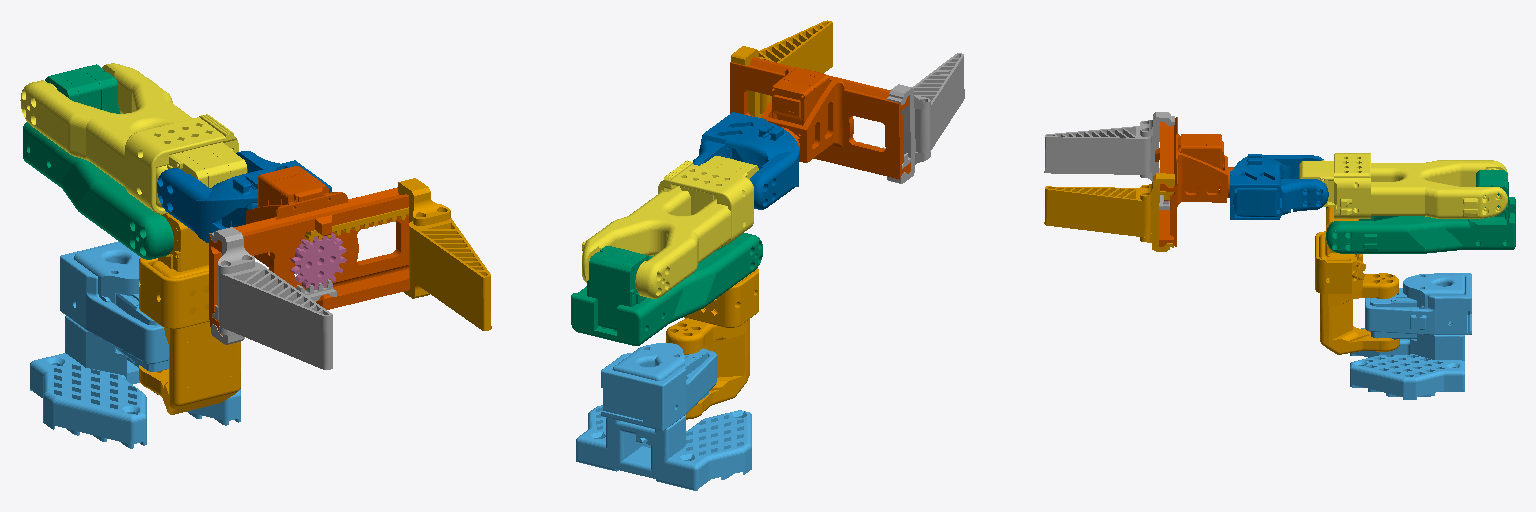
The robot description file, URDF, robot "SO-ARM101-OMNI-KIN":
<?xml version='1.0' encoding='utf-8'?>
<robot name="SO-ARM101-OMNI-KIN">
    <link name="shoulder">
        <inertial>
            <origin xyz="0.0004770891851071943 0.02669894317680722 0.02547189840090753" rpy="0.0 -0.0 -2.710505431213761e-20" />
            <mass value="0.11252428756598662" />
            <inertia ixx="0.0001038617717766518" iyy="9.279450395593099e-05" izz="3.537771817465525e-05" ixy="-1.7611894107316886e-07" iyz="-1.129544297013594e-05" ixz="-1.104499025295056e-06" />
        </inertial>
        <visual name="shoulder_visual">
            <origin xyz="4.32028549060548e-09 -3.505804035963678e-10 0.004699996355373175" rpy="1.5707963267948966 3.4088523324894087e-16 0.7853981633974478" />
            <geometry>
                <mesh filename="meshes/shoulder.stl" scale="0.001 0.001 0.001" />
            </geometry>
        </visual>
        <collision name="shoulder_collision">
            <origin xyz="4.32028549060548e-09 -3.505804035963678e-10 0.004699996355373175" rpy="1.5707963267948966 3.4088523324894087e-16 0.7853981633974478" />
            <geometry>
                <mesh filename="meshes/shoulder.stl" scale="0.001 0.001 0.001" />
            </geometry>
        </collision>
    </link>
    <link name="base">
        <inertial>
            <origin xyz="7.029578591352484e-05 0.01636738101500659 0.03471315624812317" rpy="0.0 0.0 0.0" />
            <mass value="0.14019734434910766" />
            <inertia ixx="0.00012301921987943775" iyy="0.00011340492540218861" izz="0.0001195394785059863" ixy="4.924724497830147e-07" iyz="-1.6171555219050685e-06" ixz="-1.4121587122389685e-07" />
        </inertial>
        <visual name="base_visual">
            <origin xyz="0.0 0.0 0.0" rpy="0.0 0.0 0.0" />
            <geometry>
                <mesh filename="meshes/base.stl" scale="0.001 0.001 0.001" />
            </geometry>
        </visual>
        <collision name="base_collision">
            <origin xyz="0.0 0.0 0.0" rpy="0.0 0.0 0.0" />
            <geometry>
                <mesh filename="meshes/base.stl" scale="0.001 0.001 0.001" />
            </geometry>
        </collision>
    </link>
    <link name="upper_arm">
        <inertial>
            <origin xyz="-0.0033060986470495202 -0.07760698945278842 0.012859956260585576" rpy="-1.734723475976807e-18 5.551115123125783e-17 0.0" />
            <mass value="0.11765330060336393" />
            <inertia ixx="0.00025566943669058504" iyy="4.416618555679611e-05" izz="0.0002519379499457072" ixy="5.358807226672595e-06" iyz="3.217516194400764e-05" ixz="4.1579767479330715e-06" />
        </inertial>
        <visual name="upper_arm_visual">
            <origin xyz="-0.0876344904439459 0.05903462491087984 -0.0680831327509761" rpy="-0.8051416659403453 -0.7853006921569171 3.1415926535897927" />
            <geometry>
                <mesh filename="meshes/upper_arm.stl" scale="0.001 0.001 0.001" />
            </geometry>
        </visual>
        <collision name="upper_arm_collision">
            <origin xyz="-0.0876344904439459 0.05903462491087984 -0.0680831327509761" rpy="-0.8051416659403453 -0.7853006921569171 3.1415926535897927" />
            <geometry>
                <mesh filename="meshes/upper_arm.stl" scale="0.001 0.001 0.001" />
            </geometry>
        </collision>
    </link>
    <link name="lower_arm">
        <inertial>
            <origin xyz="0.0027481190902925337 -0.0846321631821059 -0.011360163349067517" rpy="1.3696423384195834e-77 -0.0 0.0" />
            <mass value="0.12021157770337373" />
            <inertia ixx="0.00029045994554260886" iyy="3.3363740831845074e-05" izz="0.00027279419874800767" ixy="1.1556359884385421e-05" iyz="-2.2156005773684915e-05" ixz="6.968018665230375e-07" />
        </inertial>
        <visual name="lower_arm_visual">
            <origin xyz="-0.03889082325011607 0.038890926950001986 0.004700000365587216" rpy="-0.7853968025527264 1.5707963267948915 0" />
            <geometry>
                <mesh filename="meshes/lower_arm.stl" scale="0.001 0.001 0.001" />
            </geometry>
        </visual>
        <collision name="lower_arm_collision">
            <origin xyz="-0.03889082325011607 0.038890926950001986 0.004700000365587216" rpy="-0.7853968025527264 1.5707963267948915 0" />
            <geometry>
                <mesh filename="meshes/lower_arm.stl" scale="0.001 0.001 0.001" />
            </geometry>
        </collision>
    </link>
    <link name="wrist">
        <inertial>
            <origin xyz="-7.537262702586035e-05 -0.03205081928588715 -0.018830063867144923" rpy="0.0 -0.0 0.0" />
            <mass value="0.0936865599796325" />
            <inertia ixx="6.468147889091079e-05" iyy="3.4923854412750434e-05" izz="4.0181215539223256e-05" ixy="-1.2407449180291718e-07" iyz="-1.6892866857366e-05" ixz="-1.363279388738175e-07" />
        </inertial>
        <visual name="wrist_visual">
            <origin xyz="-0.15596126667785115 -0.11007333393503224 -0.04778230093915429" rpy="-0.7853968025527258 1.570796326794893 0" />
            <geometry>
                <mesh filename="meshes/wrist.stl" scale="0.001 0.001 0.001" />
            </geometry>
        </visual>
        <collision name="wrist_collision">
            <origin xyz="-0.15596126667785115 -0.11007333393503224 -0.04778230093915429" rpy="-0.7853968025527258 1.570796326794893 0" />
            <geometry>
                <mesh filename="meshes/wrist.stl" scale="0.001 0.001 0.001" />
            </geometry>
        </collision>
    </link>
    <link name="gripper_base">
        <inertial>
            <origin xyz="-0.00010779946928470257 0.026141651583498737 0.015566120970506102" rpy="0.0 -0.0 0.0" />
            <mass value="0.10461304973920418" />
            <inertia ixx="5.103843317822831e-05" iyy="6.339652596591504e-05" izz="6.215519220101131e-05" ixy="2.4257928822083845e-08" iyz="-2.2265973022453454e-06" ixz="-5.006132009341495e-08" />
        </inertial>
        <visual name="gripper_base_visual">
            <origin xyz="-3.655863098361856e-10 0.08817609256408947 0.08817633442142203" rpy="2.3561931293476226 -3.132732986072603e-15 3.141592653589792" />
            <geometry>
                <mesh filename="meshes/gripper_base.stl" scale="0.001 0.001 0.001" />
            </geometry>
        </visual>
        <collision name="gripper_base_collision">
            <origin xyz="-3.655863098361856e-10 0.08817609256408947 0.08817633442142203" rpy="2.3561931293476226 -3.132732986072603e-15 3.141592653589792" />
            <geometry>
                <mesh filename="meshes/gripper_base.stl" scale="0.001 0.001 0.001" />
            </geometry>
        </collision>
    </link>
    <link name="gripper_gear">
        <inertial>
            <origin xyz="-1.3084360728221611e-09 9.683989379993817e-07 -0.00403993804917409" rpy="-1.7347234759768067e-18 -1.2212097517038875e-18 0.0" />
            <mass value="0.01774724630550029" />
            <inertia ixx="5.590295712411363e-07" iyy="5.5902736607935e-07" izz="8.856230081697127e-07" ixy="-1.3679504698222932e-12" iyz="1.0890768944271274e-10" ixz="-4.90659953436463e-12" />
        </inertial>
        <visual name="gripper_gear_visual">
            <origin xyz="-0.04096474937172569 -0.008207649873400662 0.17375672286132207" rpy="1.5707970156192252 2.4234187544558596e-15 3.1415926475787423" />
            <geometry>
                <mesh filename="meshes/gripper_gear.stl" scale="0.001 0.001 0.001" />
            </geometry>
        </visual>
        <collision name="gripper_gear_collision">
            <origin xyz="-0.04096474937172569 -0.008207649873400662 0.17375672286132207" rpy="1.5707970156192252 2.4234187544558596e-15 3.1415926475787423" />
            <geometry>
                <mesh filename="meshes/gripper_gear.stl" scale="0.001 0.001 0.001" />
            </geometry>
        </collision>
    </link>
    <link name="arm_l">
        <inertial>
            <origin xyz="-0.03226585265930524 0.021722011682497263 0.009138394119721553" rpy="2.1895288505075267e-47 -0.0 0.0" />
            <mass value="0.026667752801736215" />
            <inertia ixx="7.595891355746684e-06" iyy="2.0166298631833295e-05" izz="2.0667734039717285e-05" ixy="1.6221364208728269e-06" iyz="1.0678873844993456e-06" ixz="-4.868376025691888e-07" />
        </inertial>
        <visual name="arm_l_visual">
            <origin xyz="0.2416316994062481 0.01869416749539816 0.05999999719739343" rpy="-1.5882495950237452 -1.5707963267948954 0" />
            <geometry>
                <mesh filename="meshes/arm_l.stl" scale="0.001 0.001 0.001" />
            </geometry>
        </visual>
        <collision name="arm_l_collision">
            <origin xyz="0.2416316994062481 0.01869416749539816 0.05999999719739343" rpy="-1.5882495950237452 -1.5707963267948954 0" />
            <geometry>
                <mesh filename="meshes/arm_l.stl" scale="0.001 0.001 0.001" />
            </geometry>
        </collision>
    </link>
    <link name="arm_r">
        <inertial>
            <origin xyz="-0.03300427874249706 0.020582726387094467 0.009138399724928093" rpy="2.1895288505075267e-47 -0.0 0.0" />
            <mass value="0.026667752801737835" />
            <inertia ixx="7.498047393893606e-06" iyy="2.0264142593687374e-05" izz="2.0667734039715767e-05" ixy="1.1797519557313073e-06" iyz="1.0502464945002922e-06" ixz="-5.238097154865415e-07" />
        </inertial>
        <visual name="arm_r_visual">
            <origin xyz="0.24083180055090858 0.027132348234545436 0.060000002802605985" rpy="1.553343058566048 1.5707963267948954 0" />
            <geometry>
                <mesh filename="meshes/arm_r.stl" scale="0.001 0.001 0.001" />
            </geometry>
        </visual>
        <collision name="arm_r_collision">
            <origin xyz="0.24083180055090858 0.027132348234545436 0.060000002802605985" rpy="1.553343058566048 1.5707963267948954 0" />
            <geometry>
                <mesh filename="meshes/arm_r.stl" scale="0.001 0.001 0.001" />
            </geometry>
        </collision>
    </link>
    <joint name="base_yaw_joint" type="revolute">
        <origin xyz="0.00042685 -0.0075030900000000005 0.06039711" rpy="-0.013963994993294268 -0.013961272905937289 -3.141397692108377" />
        <parent link="base" />
        <child link="shoulder" />
        <axis xyz="1.7955375789489858e-07 1.814237100949273e-07 0.9999999424949658" />
        <limit lower="-1.832596" upper="1.832596" effort="1000000" velocity="1000000" />
    </joint>
    <joint name="shoulder_pitch_joint" type="revolute">
        <origin xyz="0.01508339085041132 0.030145787390712196 0.05869001560217126" rpy="-0.008063844399219748 -0.7713215746152824 0.005701968158783755" />
        <parent link="shoulder" />
        <child link="upper_arm" />
        <axis xyz="0.7071757004026039 3.342221645903988e-18 -0.7070378552525224" />
        <limit lower="-3.228859" upper="0.261799" effort="1000000" velocity="1000000" />
    </joint>
    <joint name="elbow_joint" type="revolute">
        <origin xyz="0.01967109565271384 -0.11312947591395282 0.01882631990212243" rpy="-3.121847790202167 -0.7853006921569212 -0.027922546342474375" />
        <parent link="upper_arm" />
        <child link="lower_arm" />
        <axis xyz="4.930380657631324e-32 5.634381774423745e-15 1.0" />
        <limit lower="0.0" upper="3.316126" effort="1000000" velocity="1000000" />
    </joint>
    <joint name="wrist_pitch_joint" type="revolute">
        <origin xyz="0.005199859999999994 -0.13484981 0.00060000000000076" rpy="-1.0937434937942212e-14 2.465190328815662e-31 -1.3889823459164645e-45" />
        <parent link="lower_arm" />
        <child link="wrist" />
        <axis xyz="-1.9721522630525295e-31 -5.303053163518466e-15 1.0" />
        <limit lower="-1.745329" upper="1.745329" effort="1000000" velocity="1000000" />
    </joint>
    <joint name="wrist_roll_joint" type="revolute">
        <origin xyz="-2.4610000000055975e-05 -0.05697911999999992 -0.013400000000000302" rpy="2.338739861118774 1.5707963267948897 0" />
        <parent link="wrist" />
        <child link="gripper_base" />
        <axis xyz="1.9718524959085454e-31 0.707105755494762 0.7071082278931436" />
        <limit lower="-3.141593" upper="3.141593" effort="1000000" velocity="1000000" />
    </joint>
    <joint name="gripper_jaw_joint" type="continuous">
        <origin xyz="-6.68000000001076e-05 0.02983709377304219 0.029768482292113645" rpy="-2.3649031062395673 -0.0062240146921263345 3.135476226556663" />
        <parent link="gripper_base" />
        <child link="gripper_gear" />
        <axis xyz="2.0450013450909356e-07 -5.368081466682745e-07 -1.0000001459638244" />
    </joint>
    <joint name="gripper_right_joint" type="prismatic">
        <origin xyz="0.05997741999999993 0.051570988947885824 0.018972636875129838" rpy="1.5707963267948966 0.8028527924710195 -1.5707963267948746" />
        <parent link="gripper_base" />
        <child link="arm_r" />
        <axis xyz="1.2715136740082433e-14 -1.9721522630525295e-31 -1.0" />
        <limit lower="-0.044" upper="0.0" effort="1000000" velocity="1000000" />
    </joint>
    <joint name="gripper_left_joint" type="prismatic">
        <origin xyz="-0.06002258000000019 0.01897331774118804 0.051570212519384845" rpy="-1.5707963267948966 0.8028527924710195 -1.5707963267948746" />
        <parent link="gripper_base" />
        <child link="arm_l" />
        <axis xyz="-1.271513674008249e-14 -1.9721522630525295e-31 -1.0" />
        <limit lower="-0.044" upper="0.0" effort="1000000" velocity="1000000" />
        <mimic joint="gripper_right_joint" multiplier="1.0" offset="0.0" />
    </joint>
</robot>

--- Facts derived from the render (not from the file) ---
The picture shows the robot from 3 angles, left to right: view 1: azimuth 30°, elevation 25°; view 2: azimuth 150°, elevation 25°; view 3: azimuth 270°, elevation 25°; orthographic projection.
Robot: SO-ARM101-OMNI-KIN — 9 links, 8 joints (5 revolute, 1 continuous, 2 prismatic); root link base; default pose: all joints at 0.
Links seen in each view (by area): view 1: base, lower_arm, gripper_base, shoulder, arm_l, upper_arm, arm_r, wrist, gripper_gear; view 2: base, lower_arm, gripper_base, upper_arm, shoulder, wrist, arm_l, arm_r; view 3: base, lower_arm, upper_arm, shoulder, arm_r, arm_l, gripper_base, wrist.
Link boxes in pixels (bbox=[...]): base: bbox=[30, 241, 240, 448]; lower_arm: bbox=[20, 63, 246, 214]; gripper_base: bbox=[209, 166, 409, 335]; shoulder: bbox=[139, 213, 240, 414]; arm_l: bbox=[210, 227, 336, 369]; upper_arm: bbox=[23, 64, 173, 259]; arm_r: bbox=[305, 178, 491, 330]; wrist: bbox=[157, 151, 331, 242]; gripper_gear: bbox=[291, 233, 346, 289]; base: bbox=[576, 343, 751, 490]; lower_arm: bbox=[582, 156, 758, 298]; gripper_base: bbox=[730, 57, 910, 179]; upper_arm: bbox=[571, 233, 762, 345]; shoulder: bbox=[666, 245, 758, 419]; wrist: bbox=[693, 112, 798, 209]; arm_l: bbox=[860, 53, 964, 183]; arm_r: bbox=[731, 20, 832, 117]; base: bbox=[1350, 273, 1471, 399]; lower_arm: bbox=[1299, 153, 1507, 218]; upper_arm: bbox=[1326, 170, 1515, 253]; shoulder: bbox=[1315, 207, 1399, 354]; arm_r: bbox=[1044, 173, 1174, 251]; arm_l: bbox=[1044, 112, 1174, 209]; gripper_base: bbox=[1155, 117, 1233, 246]; wrist: bbox=[1230, 154, 1328, 219].
Bounding box of the posed robot: 0.1356 × 0.3539 × 0.1892 m (x, y, z).
Meshes: 9 distinct files referenced, 9 mesh visuals loaded (9 binary STL).
